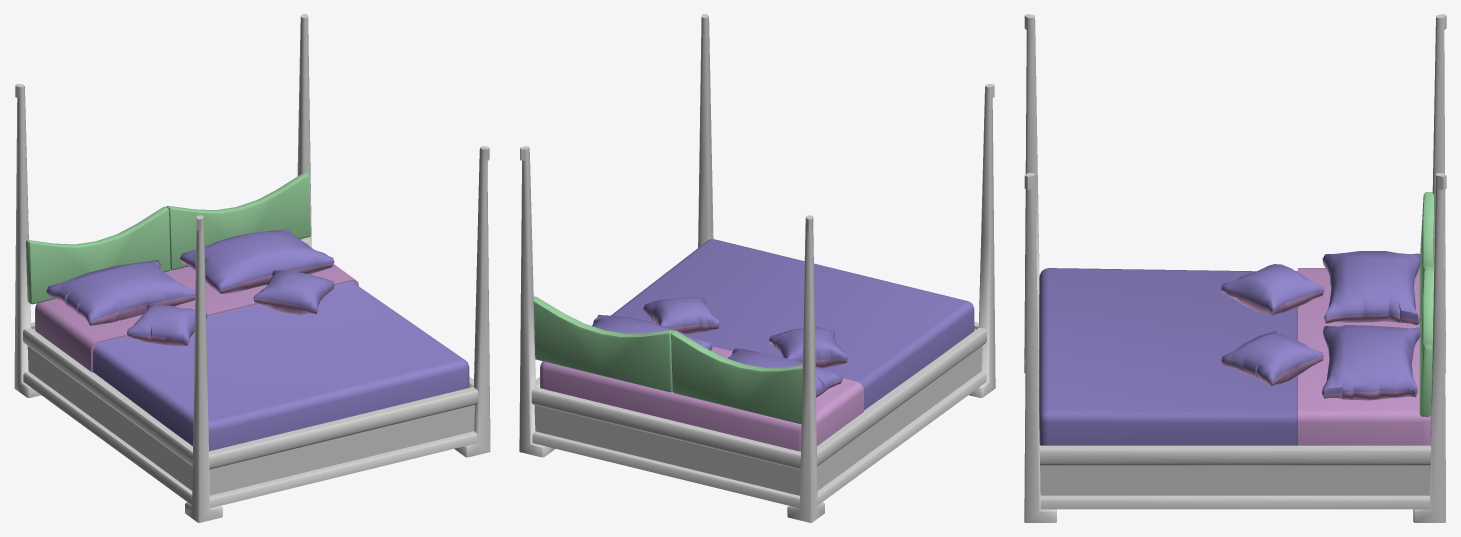
File: DBBDF031AH.FBX
3 renders of one model, left to right at view 1: azimuth 30°, elevation 25°; view 2: azimuth 150°, elevation 25°; view 3: azimuth 270°, elevation 25°, orthographic. The views are drawn at different scales.
Parts seen in each view (by area): view 1: DBBDF031AH; view 2: DBBDF031AH; view 3: DBBDF031AH.
Part boxes in pixels (x1,y1,x2,y2): DBBDF031AH: (14, 14, 490, 522); DBBDF031AH: (519, 14, 995, 522); DBBDF031AH: (1024, 14, 1446, 522).
Size of the model in its own units: 202 by 221 by 200.
